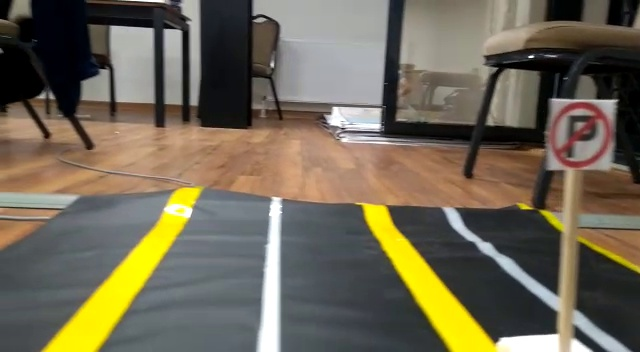park_yapilmaz: (545, 100, 617, 171)
